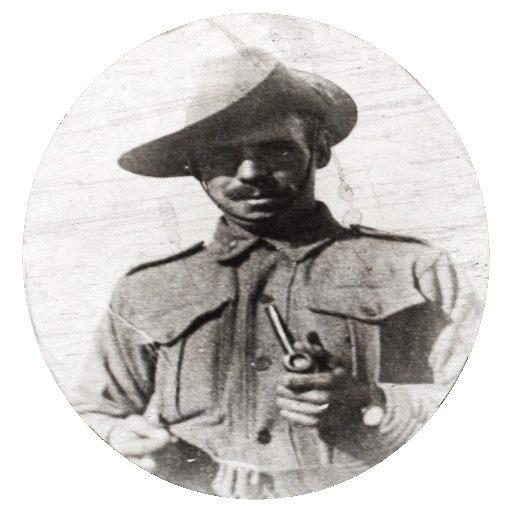hand: (265, 355, 370, 440), (103, 411, 189, 478)
